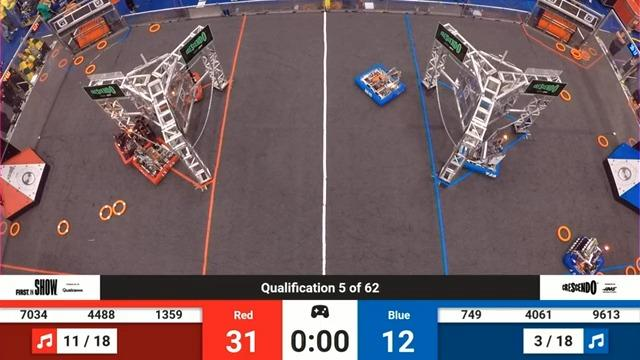robot: (129, 132, 189, 188), (357, 55, 407, 111), (458, 128, 507, 185), (105, 116, 156, 161), (564, 237, 606, 277), (166, 71, 208, 106)
